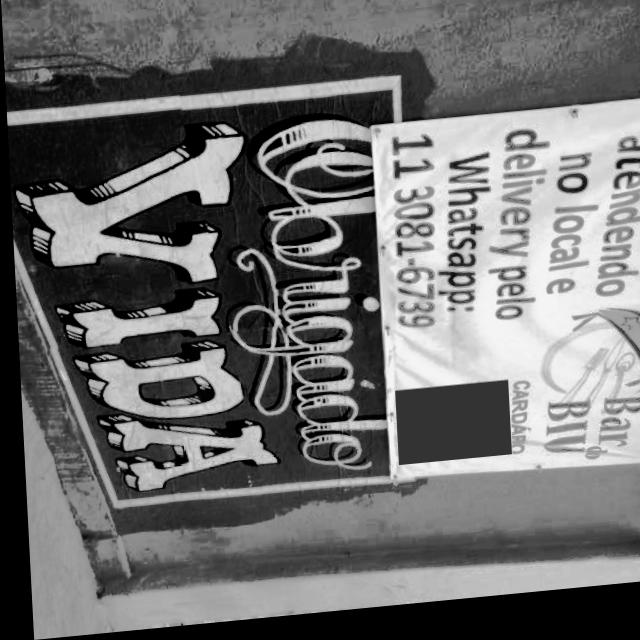qr_code: (389, 390, 506, 473)
